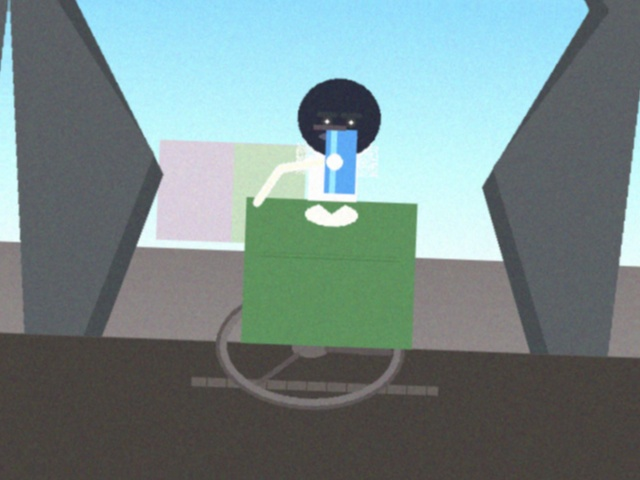drinking: (300, 115, 362, 202)
